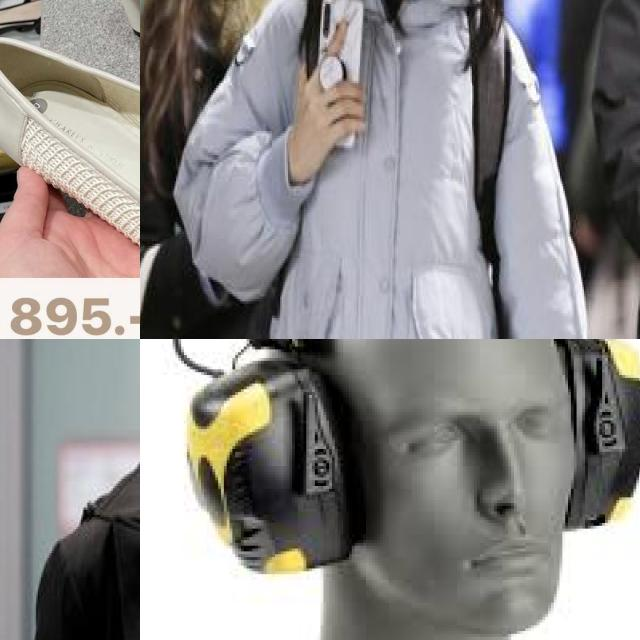Ear-protection: (181, 355, 355, 574), (550, 339, 640, 528)
Sandals: (0, 22, 140, 339)
hand_noglove: (294, 14, 370, 150)
person: (265, 0, 561, 339), (140, 0, 316, 339), (23, 339, 140, 640)
